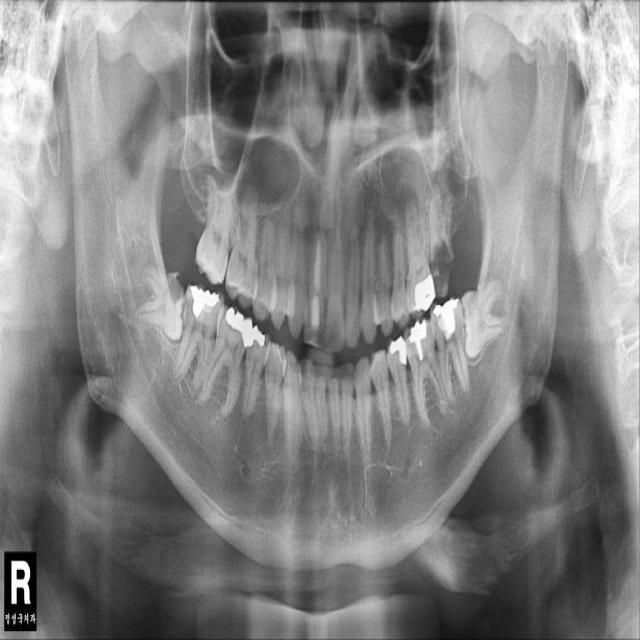52: (205, 299, 263, 355), (178, 281, 228, 340), (422, 293, 471, 346), (397, 315, 442, 366), (427, 237, 460, 297), (405, 261, 436, 321), (301, 283, 329, 349), (245, 325, 272, 367), (384, 335, 409, 374), (169, 272, 185, 303)
73: (306, 230, 334, 302), (582, 566, 586, 580)
BioHorizons Implant: (425, 180, 457, 296)
Biomet 3i Implant: (454, 278, 515, 361)
Blue Sky Bio Implant: (426, 292, 473, 399)
Caries: (191, 175, 240, 286)
Implant: (169, 281, 228, 392)
Keystone Dental Implant: (130, 263, 194, 342)
